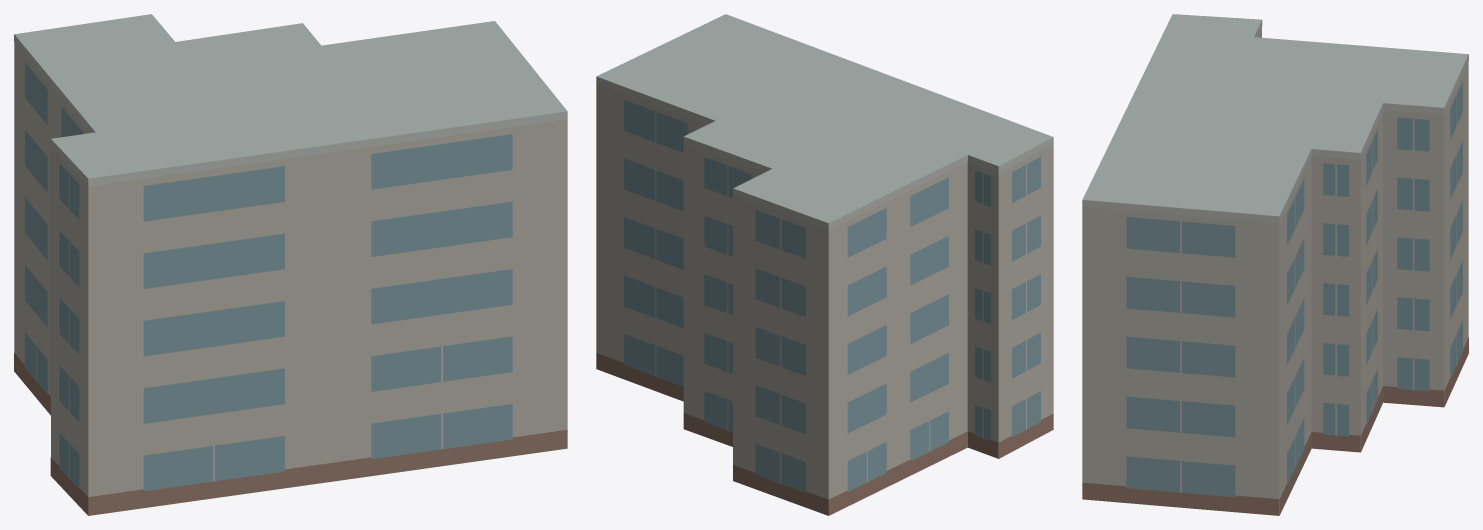
The model's file is survey-upis-32658081.glb.
3 renders of one model, left to right at view 1: azimuth 30°, elevation 25°; view 2: azimuth 150°, elevation 25°; view 3: azimuth 270°, elevation 25°, orthographic. The views are drawn at different scales.
Visible parts, largest first — view 1: survey-upis-32658081.tmp; view 2: survey-upis-32658081.tmp; view 3: survey-upis-32658081.tmp.
Boxes of the visible parts, x1,y1,x2,y2 form: survey-upis-32658081.tmp: (14,14,567,515); survey-upis-32658081.tmp: (596,14,1053,515); survey-upis-32658081.tmp: (1082,14,1468,515).
Size of the model in its own units: 15.22 by 10.5 by 12.29.
